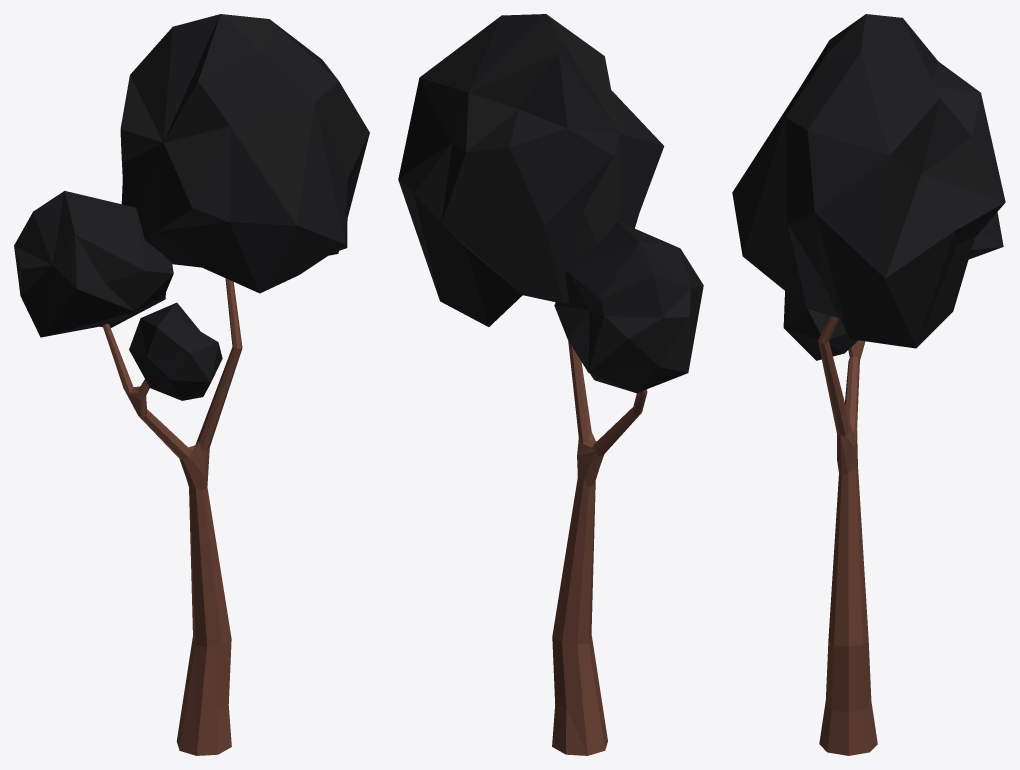
The model's file is Oak_small.fbx.
The picture shows the model from 3 angles, left to right: view 1: azimuth 30°, elevation 25°; view 2: azimuth 150°, elevation 25°; view 3: azimuth 270°, elevation 25°; orthographic projection. The views are drawn at different scales.
Parts seen in each view (by area): view 1: oak_crown_Small, oak_trunk_Small; view 2: oak_crown_Small, oak_trunk_Small; view 3: oak_crown_Small, oak_trunk_Small.
Boxes of the visible parts, x1,y1,x2,y2 form: oak_crown_Small: (14,14,369,400); oak_trunk_Small: (102,278,242,755); oak_crown_Small: (398,14,703,393); oak_trunk_Small: (552,341,647,755); oak_crown_Small: (732,14,1005,360); oak_trunk_Small: (818,316,877,755).
Bounding box in the file's own units: 64.83 × 145 × 48.42.
